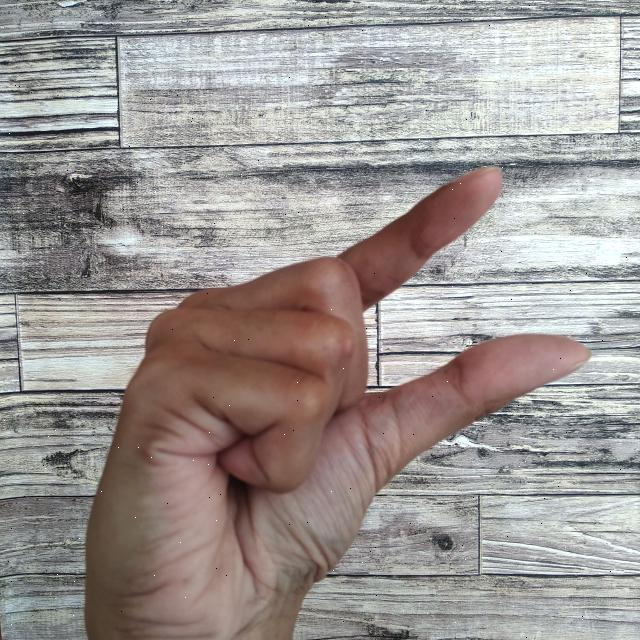G: (79, 161, 598, 640)
